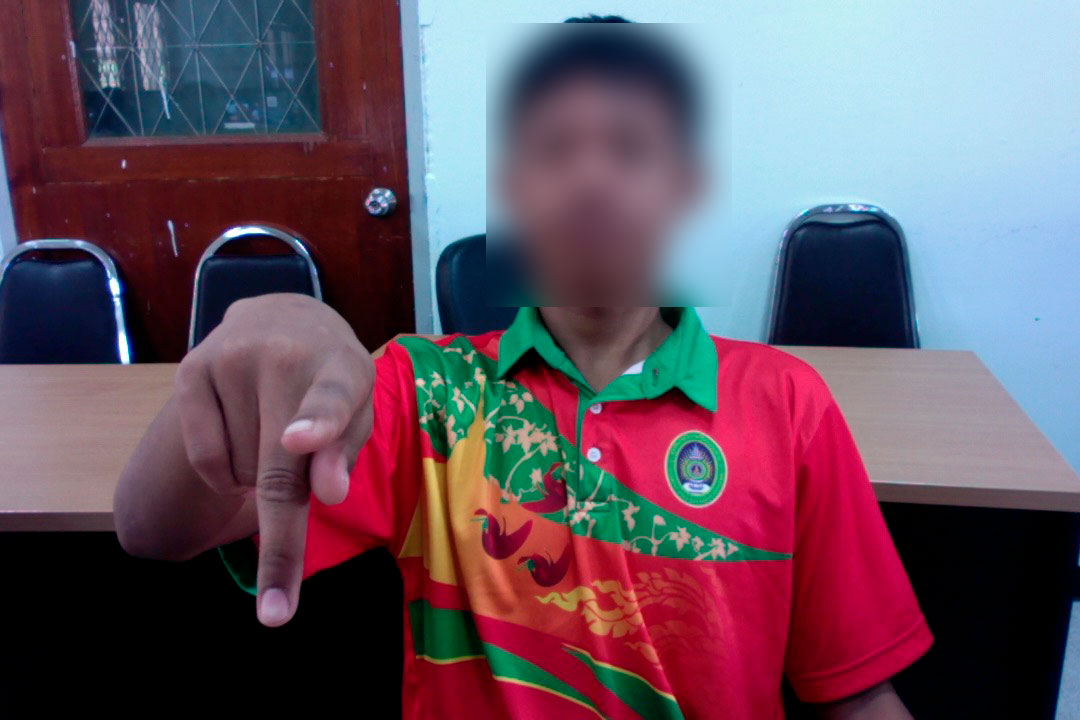por: (169, 288, 388, 631)
